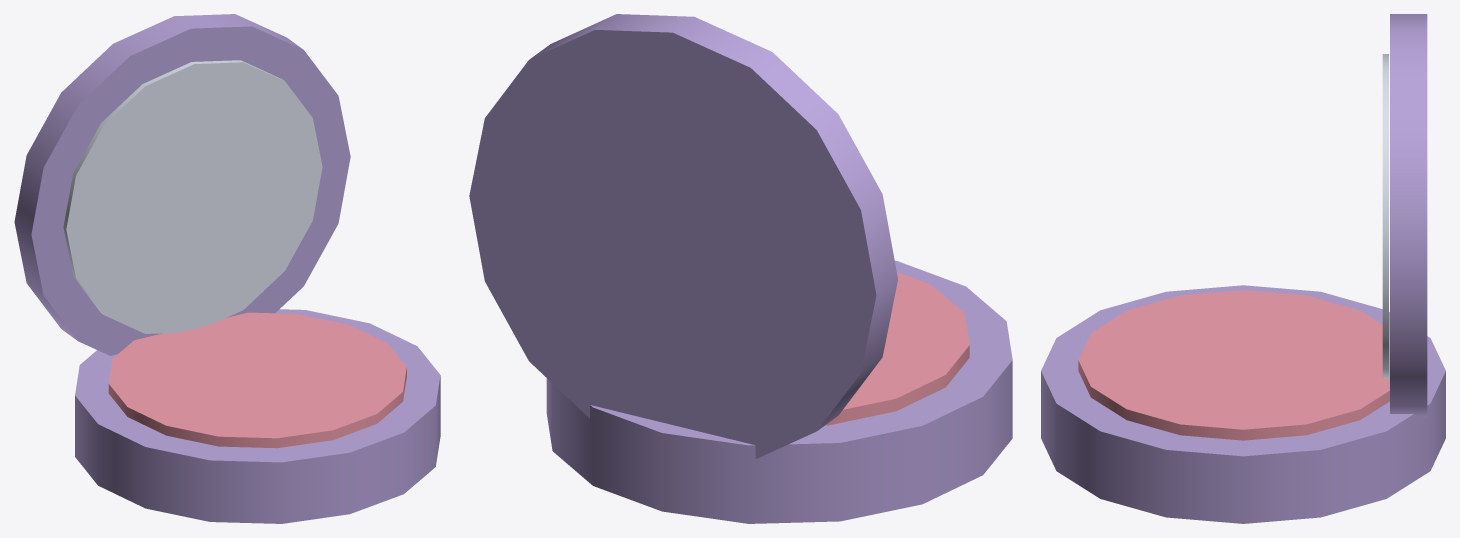
File: TRD-01-12.glb
The picture shows the model from 3 angles, left to right: view 1: azimuth 30°, elevation 25°; view 2: azimuth 150°, elevation 25°; view 3: azimuth 270°, elevation 25°; orthographic projection. The views are drawn at different scales.
Parts seen in each view (by area): view 1: TRD-01-12; view 2: TRD-01-12; view 3: TRD-01-12.
Boxes of the visible parts, x1,y1,x2,y2 form: TRD-01-12: (14,14,440,523); TRD-01-12: (469,14,1012,523); TRD-01-12: (1041,14,1445,523).
Size of the model in its own units: 0.76 by 0.84 by 0.76.
